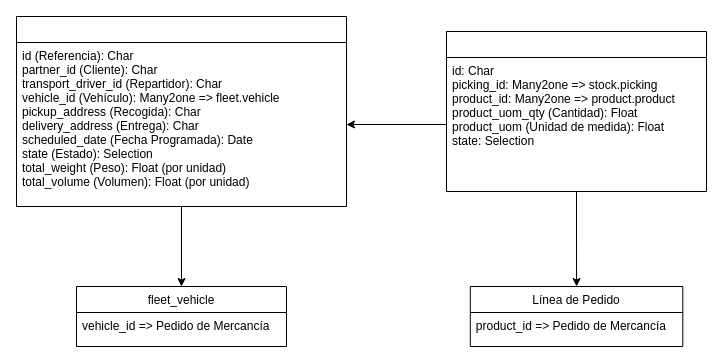
The diagram is 723 pixels wide and 363 high, and some of its shapes have lost their labels. Here are the shapes that lost their labels. From the top down, the box of each, then its label:
(16, 16, 346, 206): Pedido de Mercancía (stock_picking)
(446, 30, 706, 192): Línea de Pedido (stock_move)
